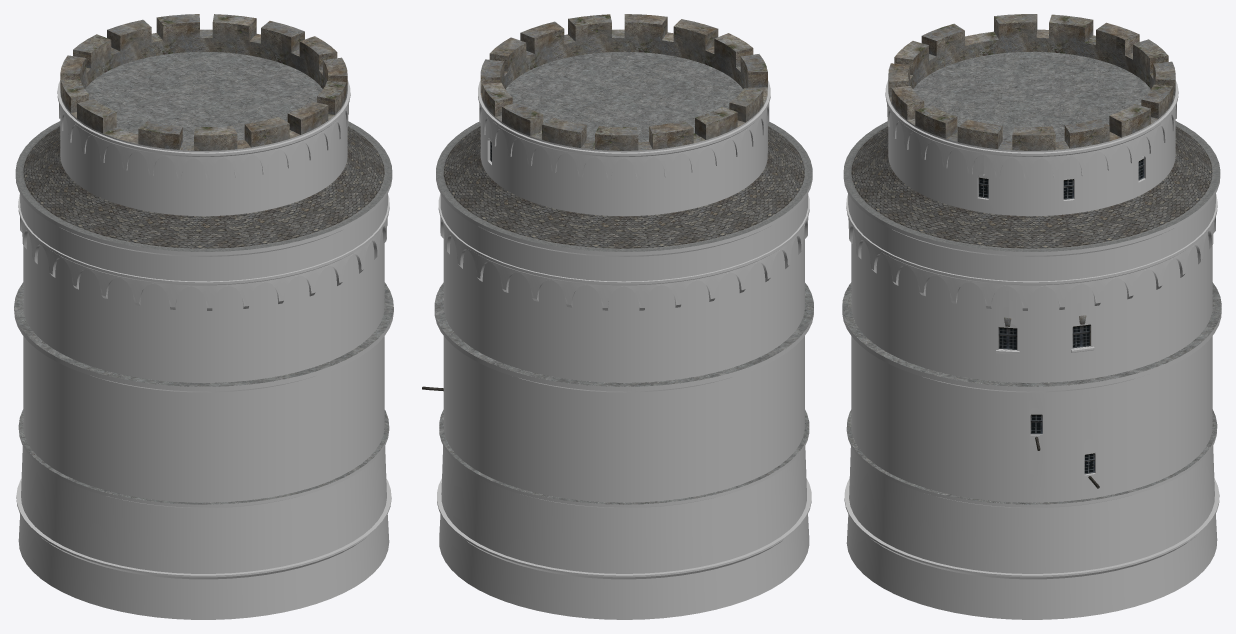
File: CastleWall_CornerTower.fbx
3 renders of one model, left to right at view 1: azimuth 30°, elevation 25°; view 2: azimuth 150°, elevation 25°; view 3: azimuth 270°, elevation 25°, orthographic.
Visible parts, largest first — view 1: CastleWall_CornerTower; view 2: CastleWall_CornerTower; view 3: CastleWall_CornerTower.
Part boxes in pixels (box(x1,y1,x2,y2)): CastleWall_CornerTower: box(14, 14, 393, 619); CastleWall_CornerTower: box(422, 14, 813, 619); CastleWall_CornerTower: box(842, 14, 1221, 619).
Size of the model in its own units: 1661 by 2150 by 1584.
